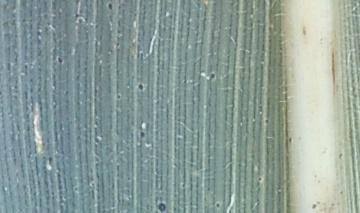tarspot: (158, 202, 166, 213), (208, 70, 216, 80), (137, 82, 145, 91), (309, 201, 318, 209), (46, 155, 53, 165), (213, 200, 221, 208), (71, 184, 79, 192), (139, 129, 145, 139), (287, 134, 293, 144), (337, 151, 343, 161), (115, 91, 122, 99), (106, 2, 113, 9), (263, 117, 269, 124), (57, 55, 62, 63), (256, 175, 262, 181), (89, 181, 96, 186)
